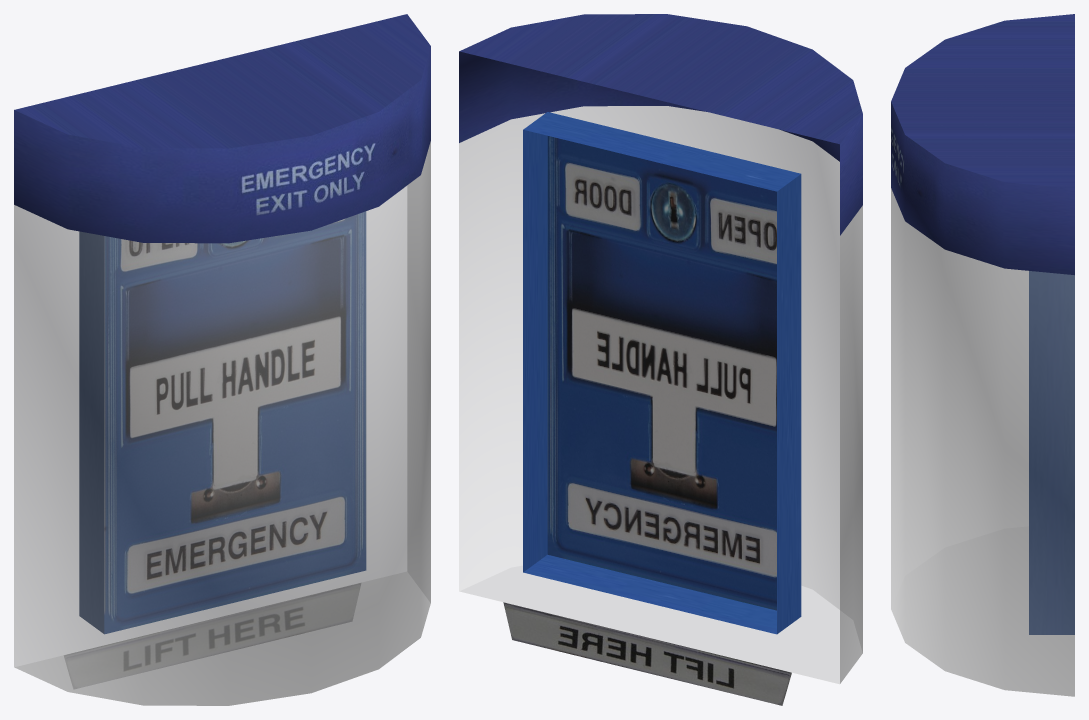
File: emergency alarm.fbx
3 renders of one model, left to right at view 1: azimuth 30°, elevation 25°; view 2: azimuth 150°, elevation 25°; view 3: azimuth 270°, elevation 25°, orthographic. The views are drawn at different scales.
Parts seen in each view (by area): view 1: Cylinder, Cube; view 2: Cube, Cylinder; view 3: Cylinder, Cube.
Part boxes in pixels (x1,y1,x2,y2): Cylinder: [14, 14, 430, 705]; Cube: [79, 211, 366, 634]; Cube: [523, 112, 801, 634]; Cylinder: [459, 14, 862, 705]; Cylinder: [891, 14, 1074, 696]; Cube: [1029, 271, 1074, 634].
Size of the model in its own units: 11.43 by 16.51 by 5.08.
